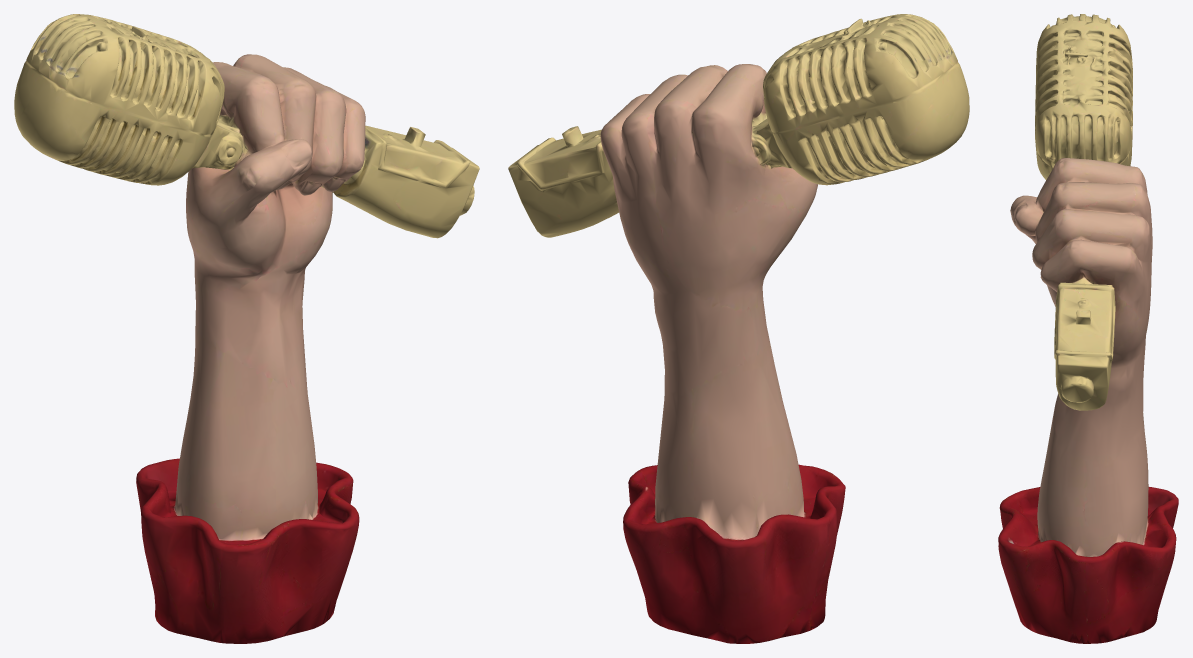
File: mic-hand-m.glb
3 renders of one model, left to right at view 1: azimuth 30°, elevation 25°; view 2: azimuth 150°, elevation 25°; view 3: azimuth 270°, elevation 25°, orthographic. The views are drawn at different scales.
Bounding box in the file's own units: 1.4 × 1.9 × 0.5911.
Materials: 1 (1 with a texture image).
